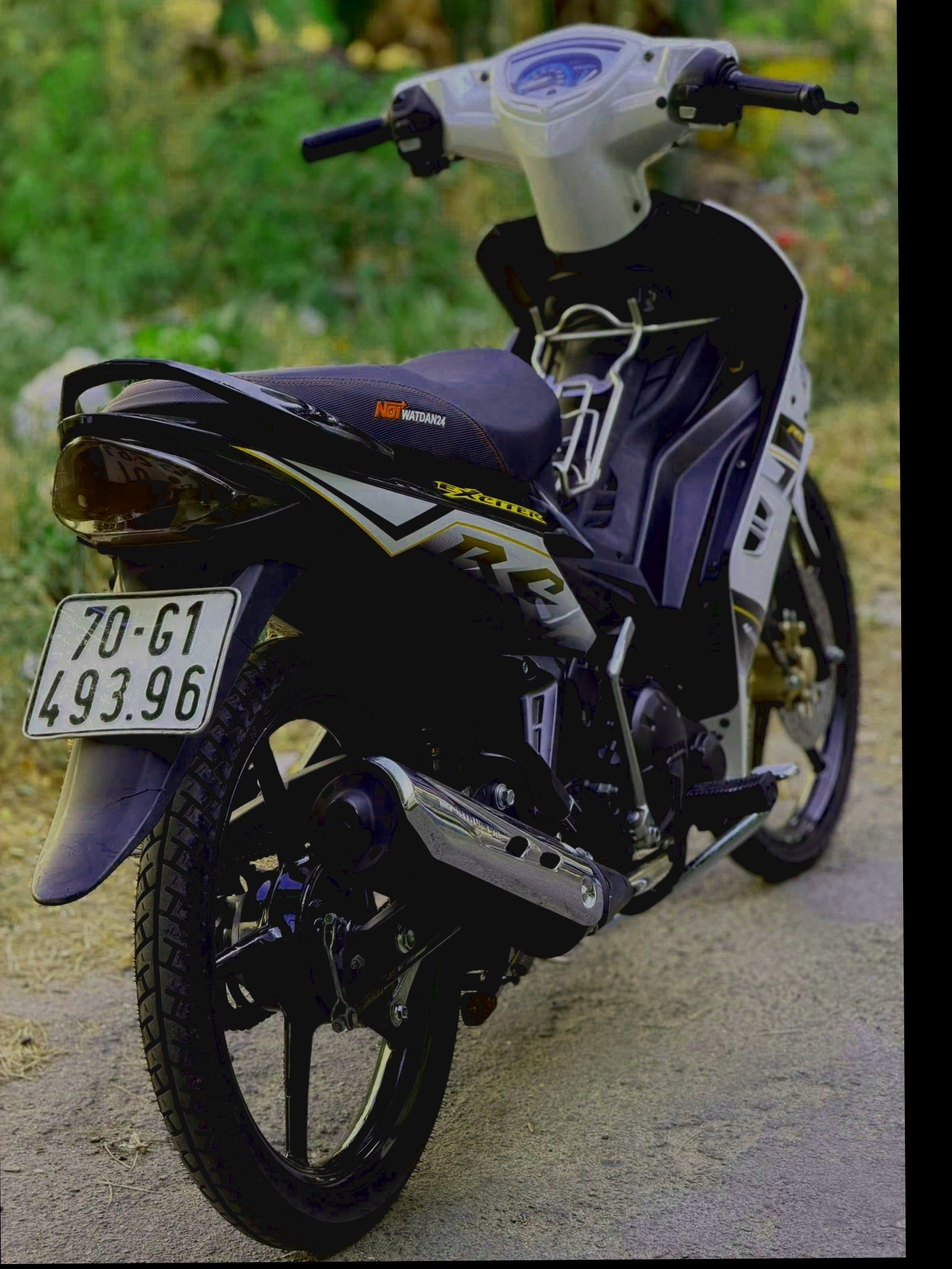Bien-so: (16, 635, 267, 792)
